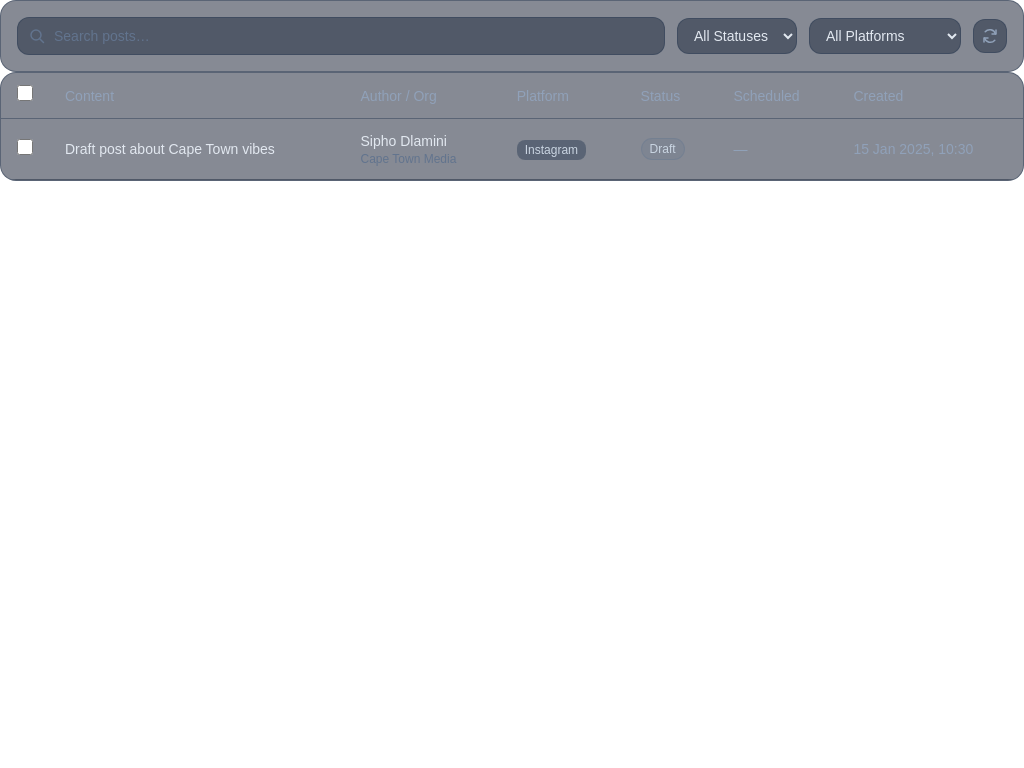
PostModerationTable › Bulk actions › updates post status optimistically after approve
Note: Select the draft post
Step 1. Click the checkbox named "Select post by Sipho Dlamini" → (25, 146), box [17,138,33,154]
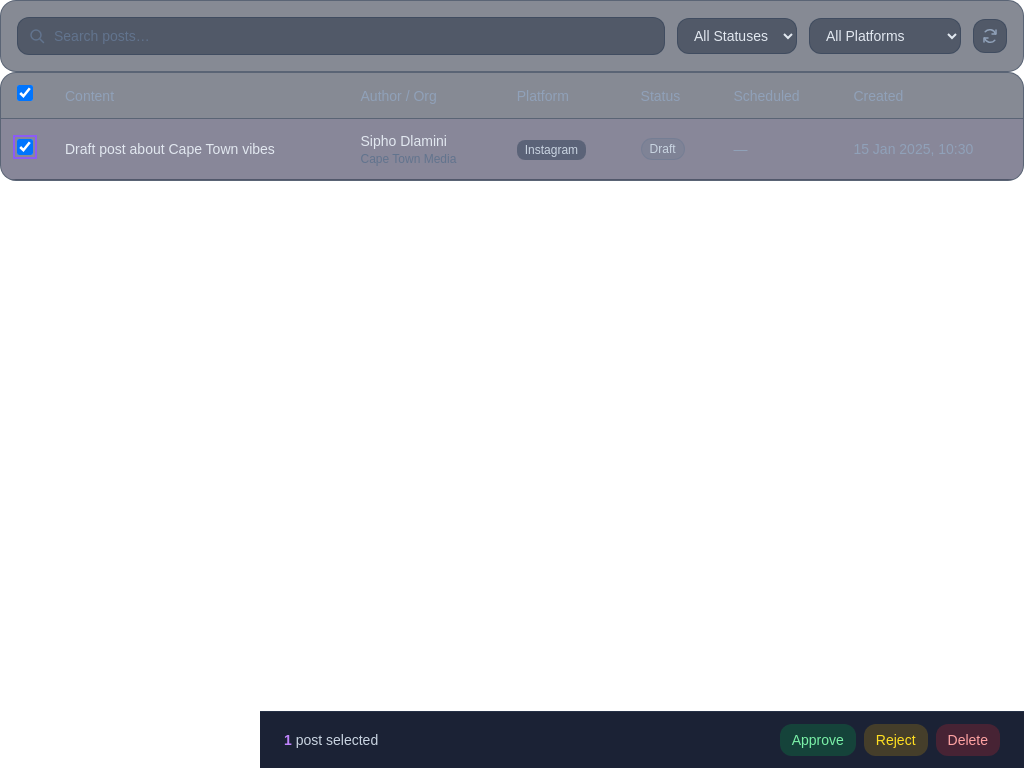
Step 2. Click the button "Approve" → (818, 740), box [780,724,856,756]
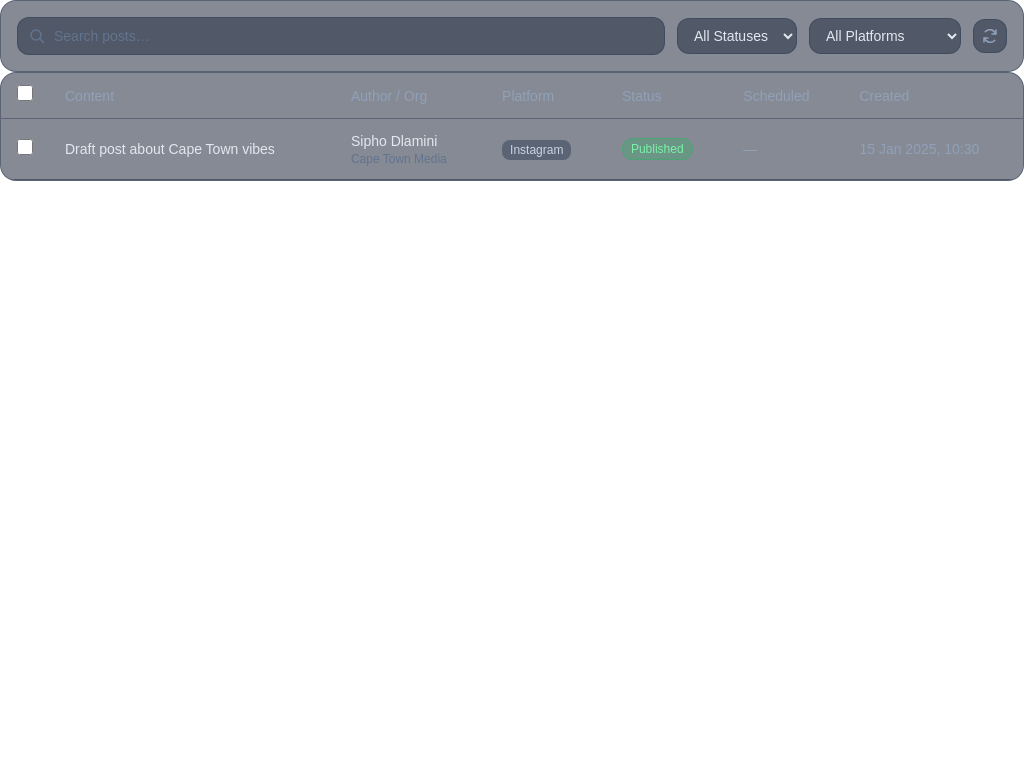
Expected: the text "published" is shown, [622,138,693,160]
